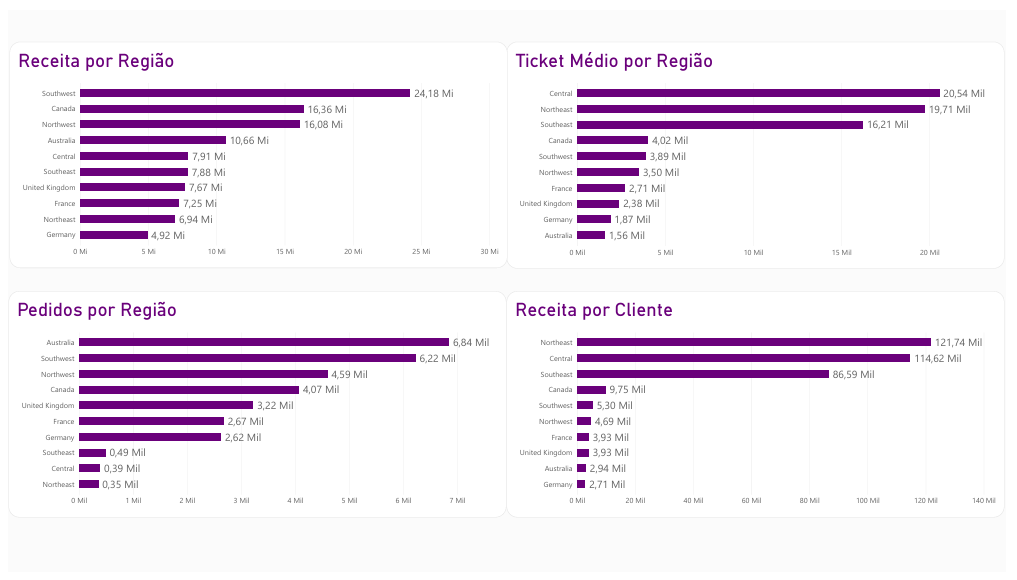

The page's visual inventory and layout, read from the dashboard file:
{"tool":"powerbi","page":{"name":"Territórios","canvas":[1920,1080],"ordinal":2},"visuals":[{"type":"barChart","title":"Ticket Médio por Região","fields":{"Category":["Sales SalesTerritory.Name"],"Y":["Sales SalesOrderHeader.TicketMédio"]},"box":[959,60.5,959,436.3],"z":0},{"type":"barChart","title":"Pedidos por Região","fields":{"Y":["Sales SalesOrderHeader.Pedidos"],"Category":["Sales SalesTerritory.Name"]},"box":[0,540,959,436],"z":1000},{"type":"barChart","title":"Receita por Região","fields":{"Category":["Sales SalesTerritory.Name"],"Y":["Sales SalesOrderDetail.Receita"]},"box":[2.2,60.5,959,436],"z":2000},{"type":"barChart","title":"Receita por Cliente ","fields":{"Category":["Sales SalesTerritory.Name"],"Y":["Sales SalesOrderDetail.Receita por Cliente"]},"box":[959,540,959,436],"z":2001}]}

Visuals, with their boxes in screenshot pixels (x1, y1, x2, y2), scaled from the page's 1920x1080 canvas onto the 1017x580 screenshot:
"Ticket Médio por Região" barChart: (508,32,1016,267)
"Pedidos por Região" barChart: (0,290,508,524)
"Receita por Região" barChart: (1,32,509,267)
"Receita por Cliente " barChart: (508,290,1016,524)
